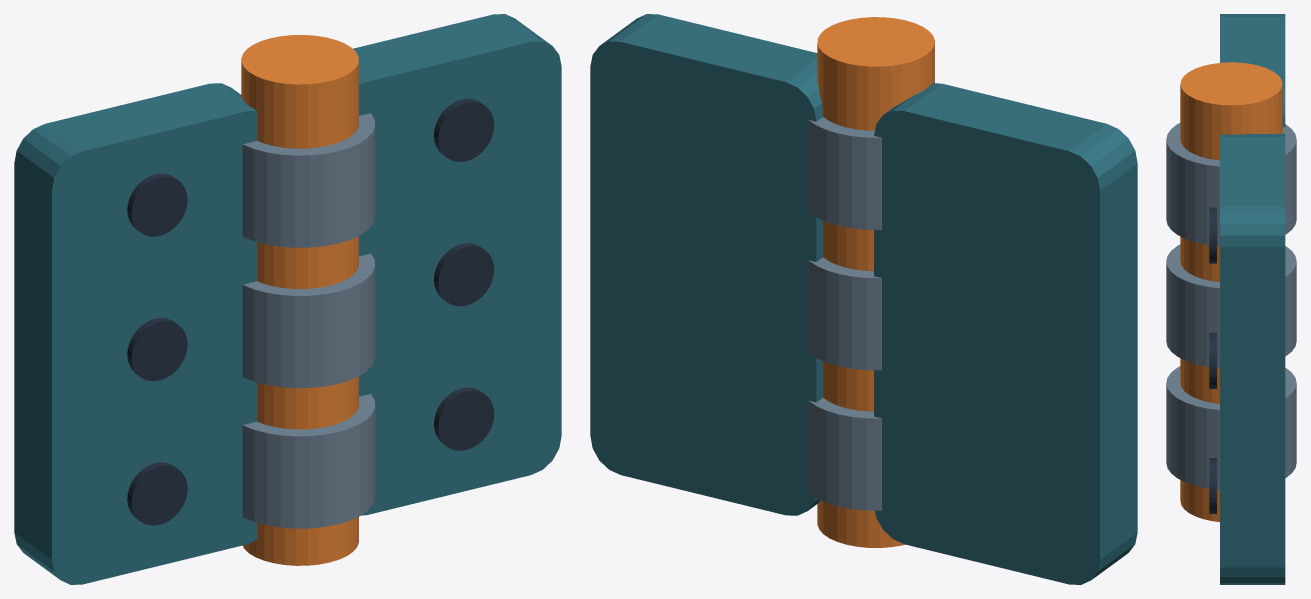
Rendered from hingeplate.glb.
3 views of the same model, side by side, from view 1: azimuth 30°, elevation 25°; view 2: azimuth 150°, elevation 25°; view 3: azimuth 270°, elevation 25° (orthographic). The views are drawn at different scales.
Parts seen in each view (by area): view 1: leaf-1, leaf1, pin, fixing hole (×6), knuckle0.24, knuckle0.94, knuckle0.59; view 2: leaf-1, leaf1, pin, knuckle0.24, knuckle0.59, knuckle0.94; view 3: leaf1, pin, knuckle0.24, knuckle0.59, knuckle0.94, leaf-1, fixing hole (×3).
Boxes of the visible parts, box(x1,y1,x2,y2) form: leaf-1: box(14, 83, 257, 584); leaf1: box(353, 14, 561, 515); pin: box(241, 35, 358, 565); fixing hole (×6): box(127, 98, 494, 525); knuckle0.24: box(242, 394, 375, 528); knuckle0.94: box(242, 113, 375, 247); knuckle0.59: box(242, 253, 375, 388); leaf-1: box(874, 83, 1137, 584); leaf1: box(590, 14, 822, 515); pin: box(817, 17, 934, 547); knuckle0.24: box(808, 398, 881, 510); knuckle0.59: box(808, 257, 881, 370); knuckle0.94: box(808, 117, 881, 229); leaf1: box(1220, 134, 1285, 584); pin: box(1180, 62, 1282, 521); knuckle0.24: box(1166, 366, 1296, 489); knuckle0.59: box(1166, 244, 1296, 368); knuckle0.94: box(1166, 123, 1296, 246); leaf-1: box(1220, 14, 1285, 127); fixing hole (×3): box(1209, 207, 1216, 513).
Bounding box in the file's own units: 1.33 × 1.2 × 0.34.
